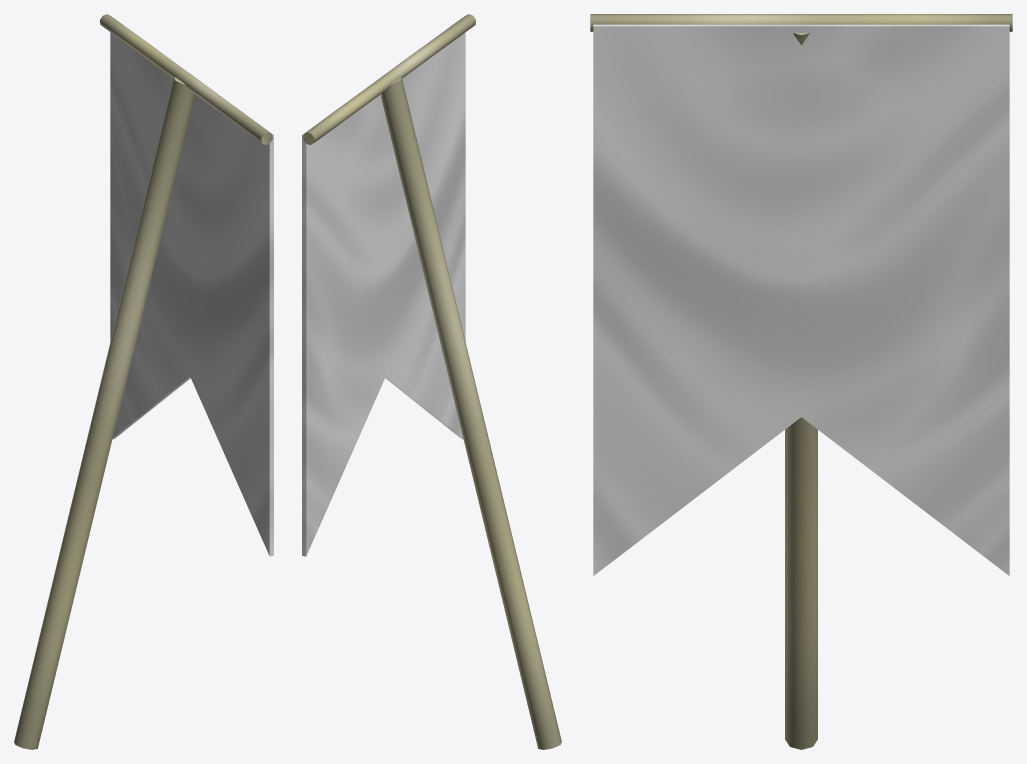
Rendered from Flag.fbx.
The picture shows the model from 3 angles, left to right: view 1: azimuth 30°, elevation 25°; view 2: azimuth 150°, elevation 25°; view 3: azimuth 270°, elevation 25°; orthographic projection. The views are drawn at different scales.
Parts seen in each view (by area): view 1: Cylinder; view 2: Cylinder; view 3: Cylinder.
Part boxes in pixels (box(x1,y1,x2,y2)): Cylinder: box(14, 14, 273, 749); Cylinder: box(302, 14, 561, 749); Cylinder: box(590, 14, 1012, 749).
Bounding box in the file's own units: 131 × 440 × 203.
2 materials, 2 textured.
